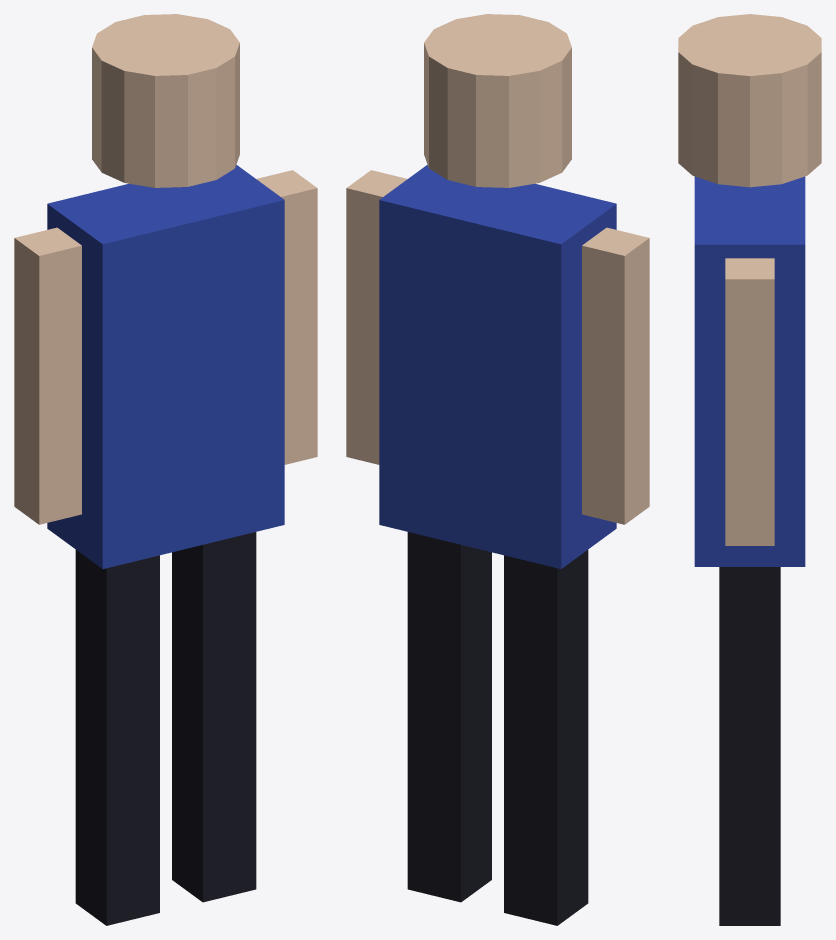
File: walking.dae
3 views of the same model, side by side, from view 1: azimuth 30°, elevation 25°; view 2: azimuth 150°, elevation 25°; view 3: azimuth 270°, elevation 25° (orthographic).
Parts seen in each view (by area): view 1: torso, leg_right, leg_left, head, arm_right, arm_left; view 2: torso, leg_right, leg_left, head, arm_right, arm_left; view 3: torso, head, leg_left, arm_left.
Part boxes in pixels (x1=…): torso: x1=47, y1=165, x2=284, y2=568; leg_right: x1=75, y1=550, x2=159, y2=925; leg_left: x1=172, y1=532, x2=256, y2=902; head: x1=92, y1=14, x2=239, y2=187; arm_right: x1=14, y1=227, x2=81, y2=524; arm_left: x1=256, y1=170, x2=317, y2=464; torso: x1=379, y1=165, x2=616, y2=568; leg_right: x1=504, y1=550, x2=588, y2=925; leg_left: x1=407, y1=532, x2=491, y2=902; head: x1=424, y1=14, x2=571, y2=187; arm_right: x1=582, y1=227, x2=649, y2=524; arm_left: x1=346, y1=170, x2=407, y2=464; torso: x1=694, y1=176, x2=805, y2=566; head: x1=678, y1=14, x2=821, y2=187; leg_left: x1=719, y1=567, x2=780, y2=925; arm_left: x1=725, y1=258, x2=774, y2=545.
Size of the model in its own units: 0.52 by 0.234 by 1.52.
